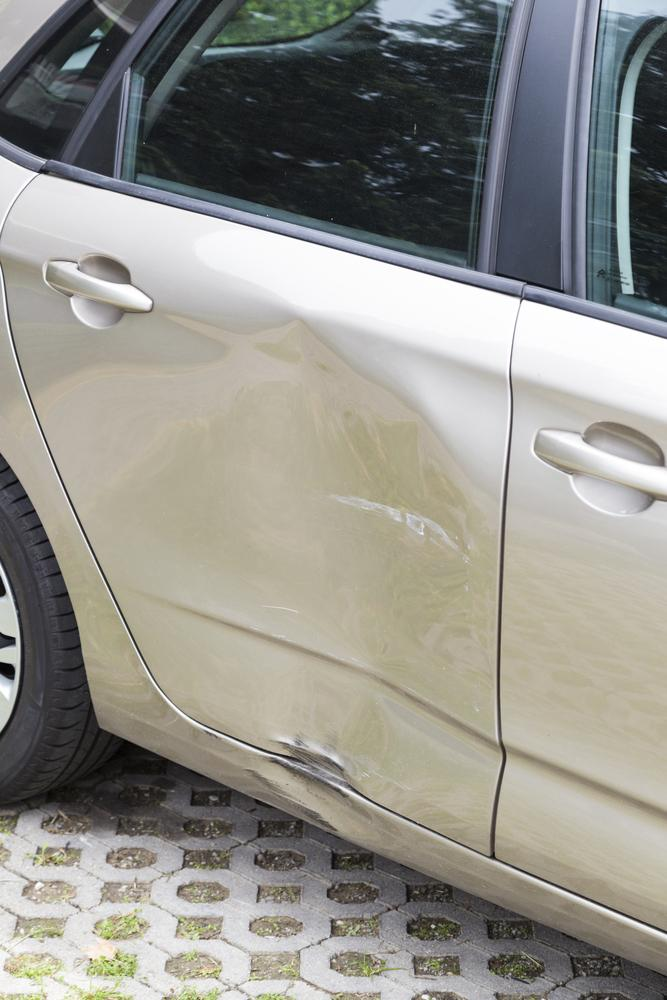dent: (41, 311, 497, 787)
scratch: (239, 769, 344, 830)
